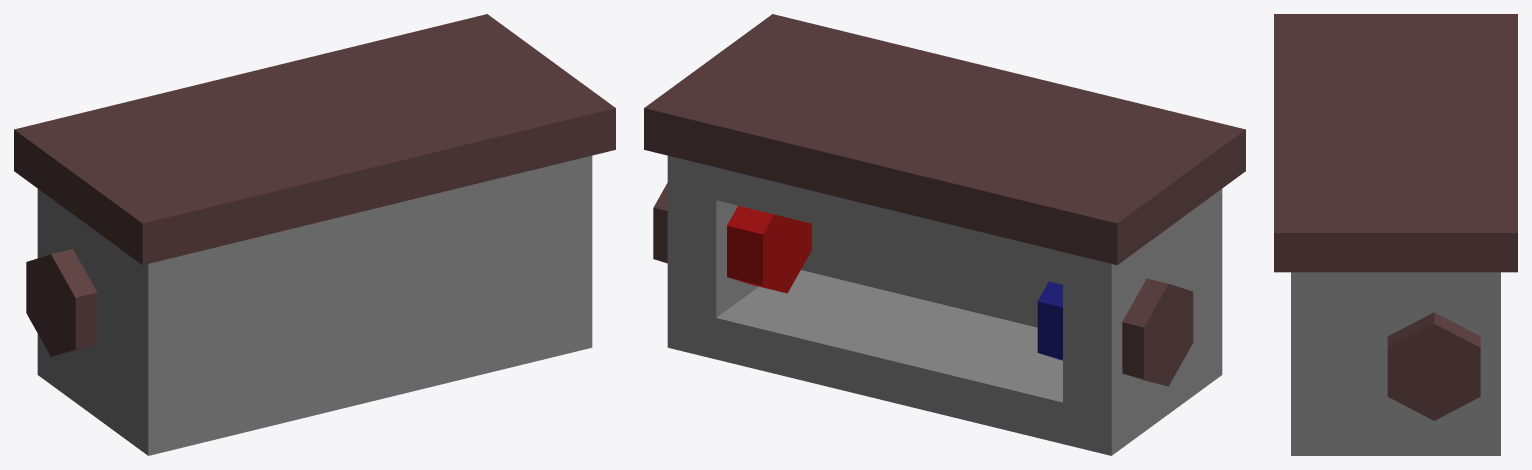
The model's file is BatteryCharger.fbx.
3 renders of one model, left to right at view 1: azimuth 30°, elevation 25°; view 2: azimuth 150°, elevation 25°; view 3: azimuth 270°, elevation 25°, orthographic. The views are drawn at different scales.
Visible parts, largest first — view 1: BatteryCharger; view 2: BatteryCharger; view 3: BatteryCharger.
Part boxes in pixels (left/top/right/bottom): BatteryCharger: left=14, top=14, right=615, bottom=455; BatteryCharger: left=644, top=14, right=1245, bottom=455; BatteryCharger: left=1274, top=14, right=1517, bottom=455.
Bounding box in the file's own units: 244 × 115 × 111.
